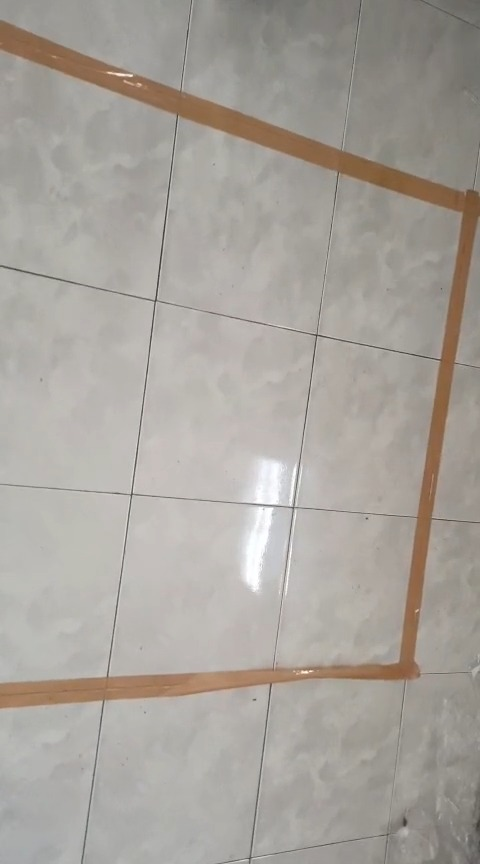floor marking: (0, 21, 479, 707)
